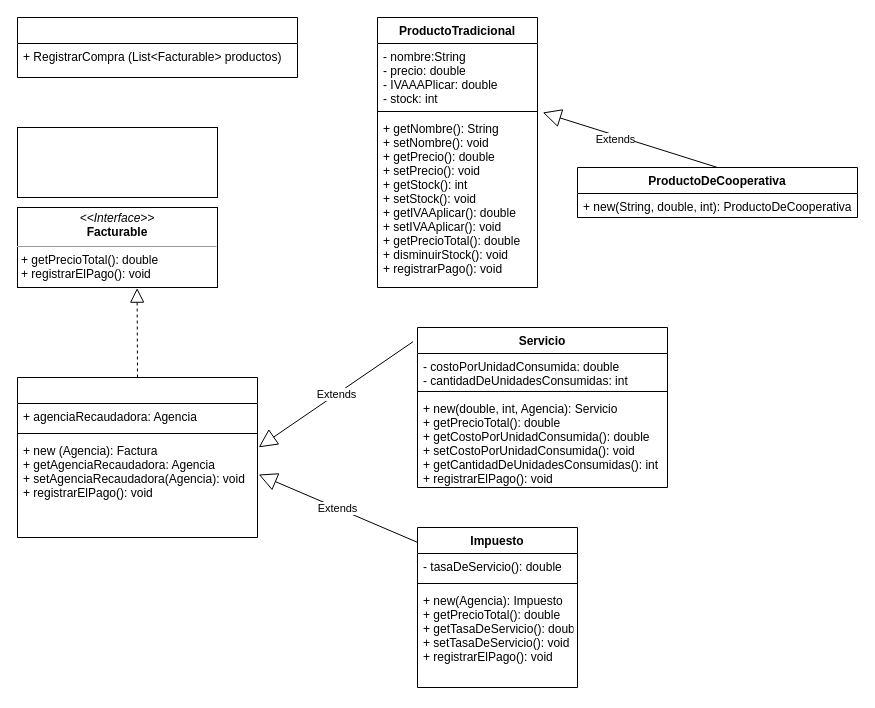
This 875x708 diagram has some shape labels left out. The box of each missing label's shape, as (x1, y1, x2, y2) in pixels:
<<Interface>> Agencia + registrarPago(Factura): void: (16, 126, 218, 198)
Abstract Factura: (16, 376, 258, 538)
CajaMercadoCentral: (16, 16, 298, 78)
